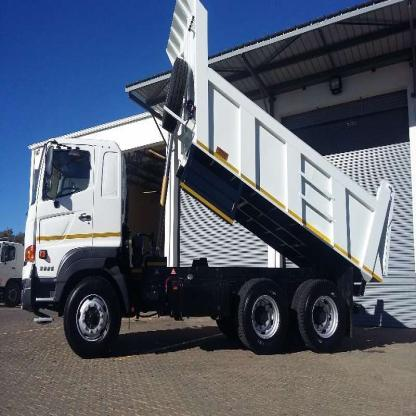dump_truck: (20, 5, 400, 358)
